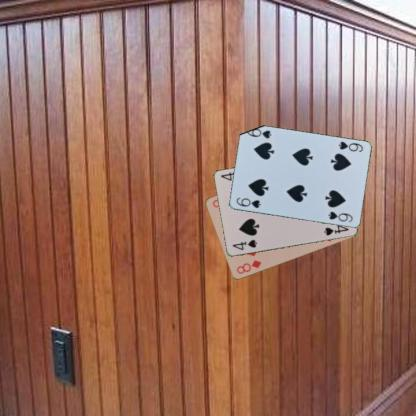4s: (230, 237, 258, 251)
6s: (233, 194, 262, 210), (336, 138, 364, 154)
8d: (233, 258, 262, 276)
